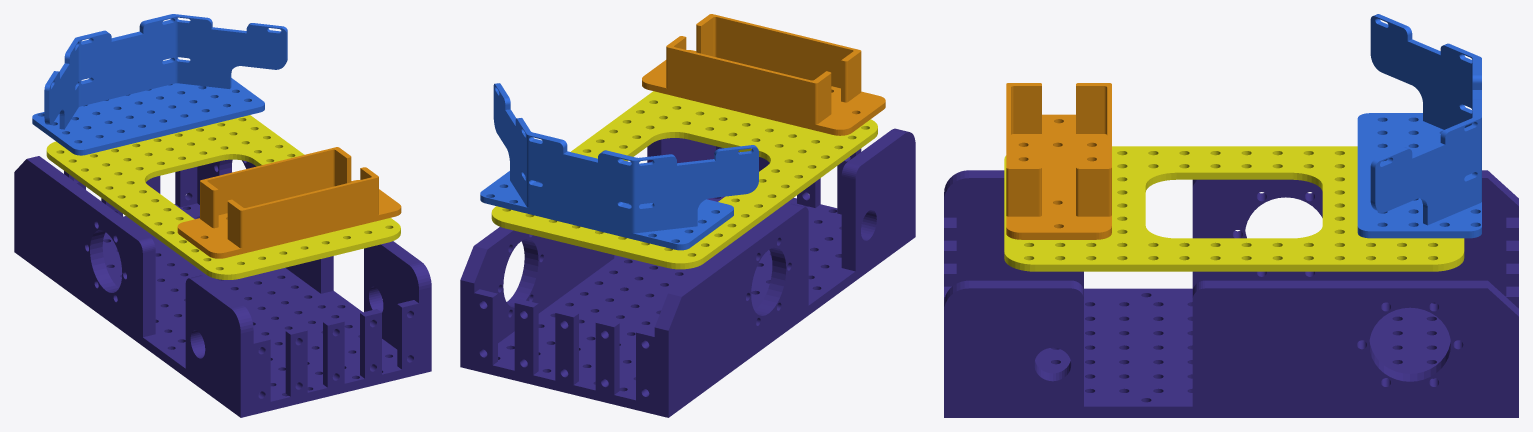
Rendered from assembled_model.gltf.
3 renders of one model, left to right at view 1: azimuth 30°, elevation 25°; view 2: azimuth 150°, elevation 25°; view 3: azimuth 270°, elevation 25°, orthographic. The views are drawn at different scales.
Visible parts, largest first — view 1: New-MAIN CHASIS, sensor mtg plate, Aurdino mtg, Battery mtg; view 2: New-MAIN CHASIS, sensor mtg plate, Aurdino mtg, Battery mtg; view 3: New-MAIN CHASIS, Aurdino mtg, sensor mtg plate, Battery mtg.
Boxes of the visible parts, x1,y1,x2,y2 form: New-MAIN CHASIS: (14, 156, 431, 417); sensor mtg plate: (32, 14, 287, 155); Aurdino mtg: (46, 115, 400, 279); Battery mtg: (177, 147, 401, 258); New-MAIN CHASIS: (460, 128, 915, 417); sensor mtg plate: (480, 83, 758, 250); Aurdino mtg: (491, 91, 877, 269); Battery mtg: (642, 14, 885, 135); New-MAIN CHASIS: (944, 170, 1518, 417); Aurdino mtg: (1004, 146, 1464, 271); sensor mtg plate: (1357, 14, 1481, 238); Battery mtg: (1006, 83, 1111, 239).
Size of the model in its own units: 115 by 96.27 by 185.
